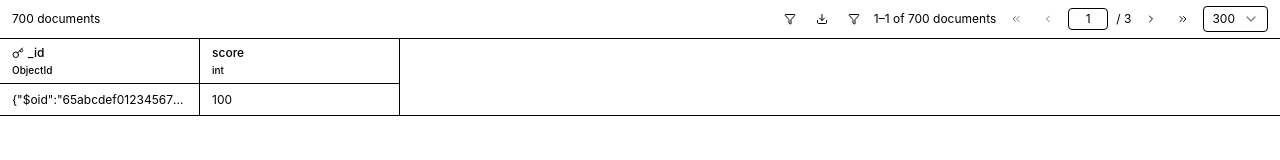
Scenario: DocumentDataGrid — schema accumulator (Sprint 320 E.2) › keeps the first-seen type for a field even when a later page disagrees
Expected: the text "100" is shown, [212, 92, 232, 108]
Expected: the column heading titled "Sort by score" shows "int", [212, 64, 224, 76]
Click the button named "Next page": (1151, 19) [1139, 7, 1163, 31]
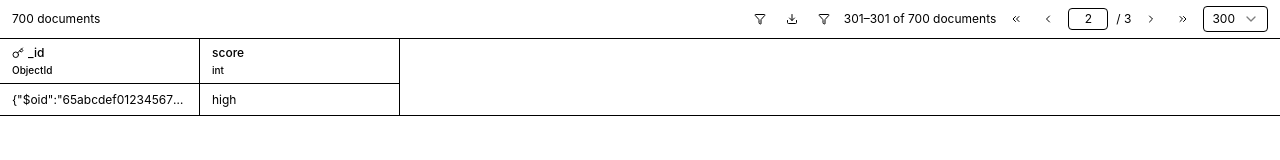
Expected: the column heading titled "Sort by score" shows "int", [212, 64, 224, 76]
Now the text "high" is shown, box [212, 92, 236, 108]
